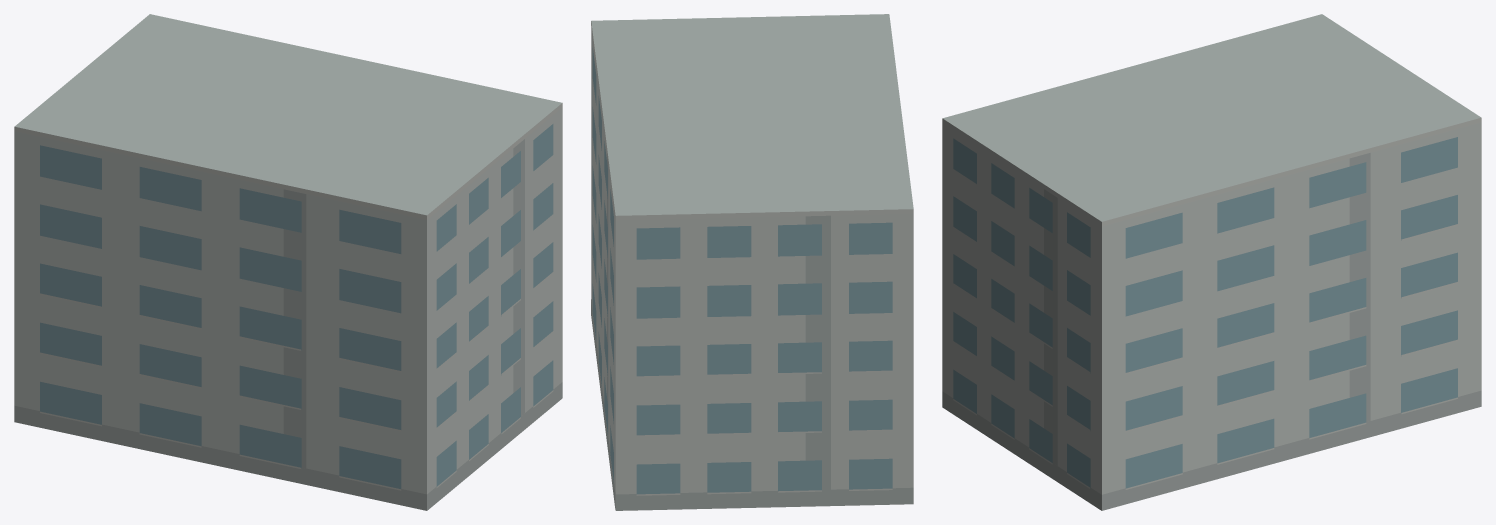
File: residential-f49e656b-1f90-4168-9509-836cc31af755.glb
3 renders of one model, left to right at view 1: azimuth 30°, elevation 25°; view 2: azimuth 150°, elevation 25°; view 3: azimuth 270°, elevation 25°, orthographic. The views are drawn at different scales.
Visible parts, largest first — view 1: residential-f49e656b-1f90-4168-9509-836cc31af755.tmp; view 2: residential-f49e656b-1f90-4168-9509-836cc31af755.tmp; view 3: residential-f49e656b-1f90-4168-9509-836cc31af755.tmp.
Boxes of the visible parts, bbox=[...] form: residential-f49e656b-1f90-4168-9509-836cc31af755.tmp: bbox=[14, 14, 562, 510]; residential-f49e656b-1f90-4168-9509-836cc31af755.tmp: bbox=[591, 14, 913, 510]; residential-f49e656b-1f90-4168-9509-836cc31af755.tmp: bbox=[942, 14, 1481, 510].
Size of the model in its own units: 23.53 by 15.25 by 25.79.
